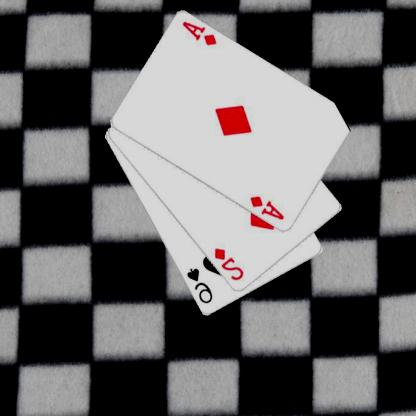2D: (213, 246, 247, 282)
9S: (185, 266, 216, 305)
AD: (250, 194, 288, 222), (182, 19, 219, 47)
